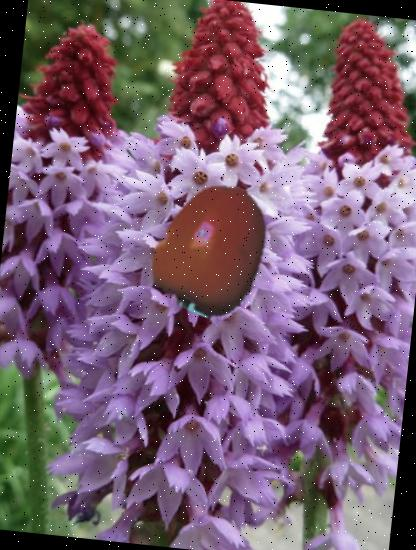Kaki: (138, 175, 286, 322)
